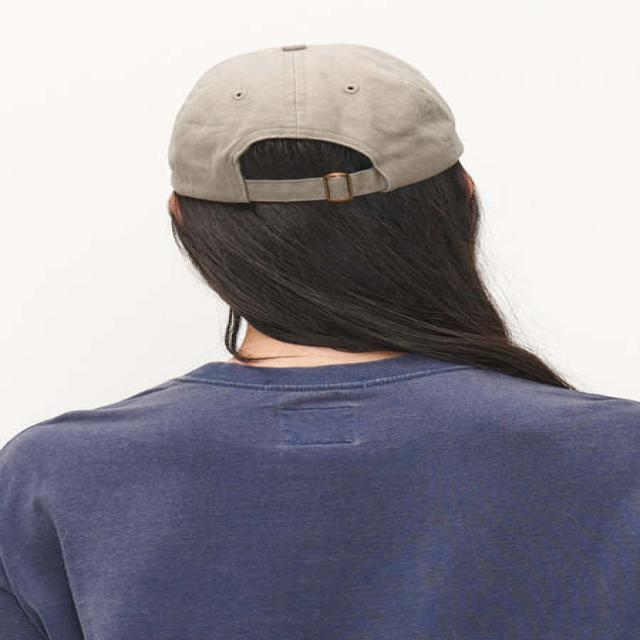Cap: (161, 36, 472, 210)
